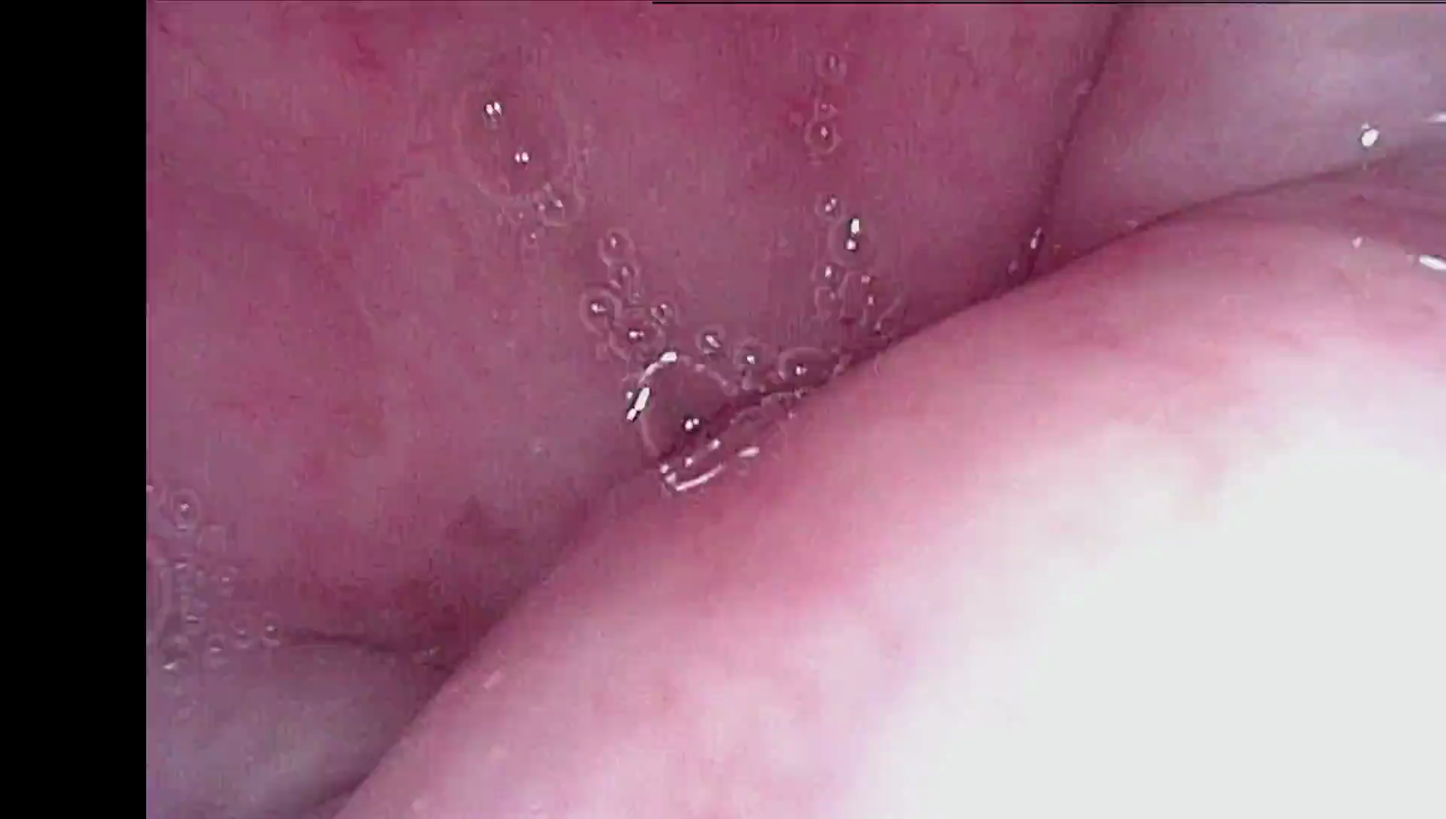close_wall: (521, 247, 1446, 819)
